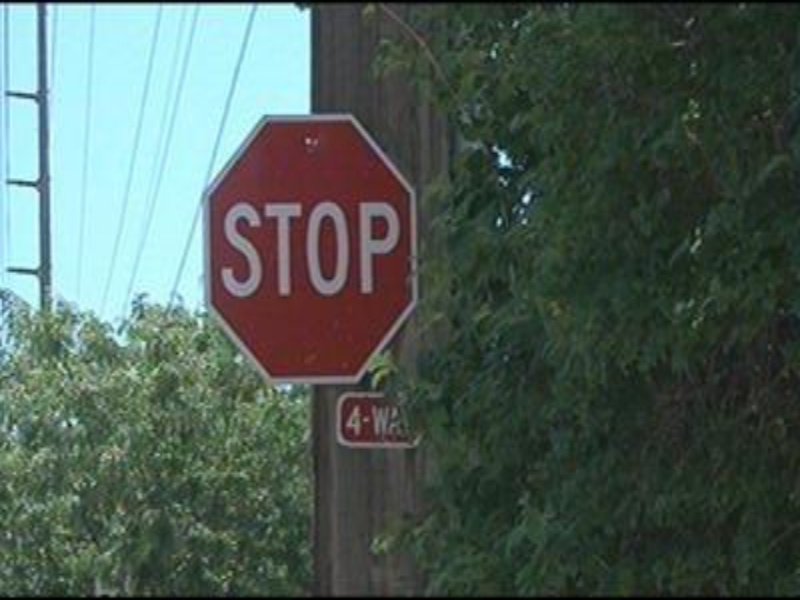stop sign: (200, 110, 422, 390)
